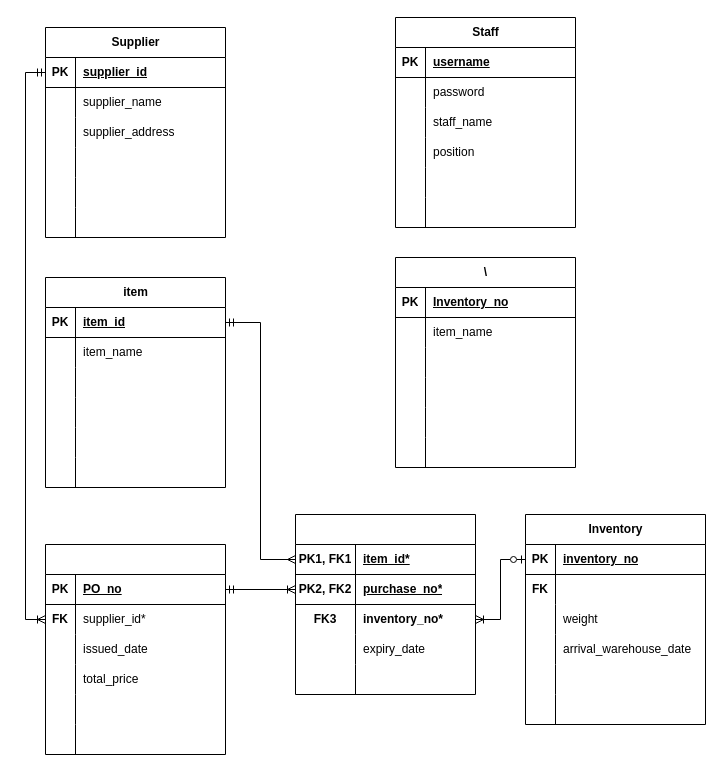
Image size: 723x772. Some labels were removed from this diagram. The box of each missing label's shape, as (x1, y1, x2, y2) in pixels:
Purchase_Order: (44, 544, 226, 754)
Purchased_item: (294, 514, 476, 694)
